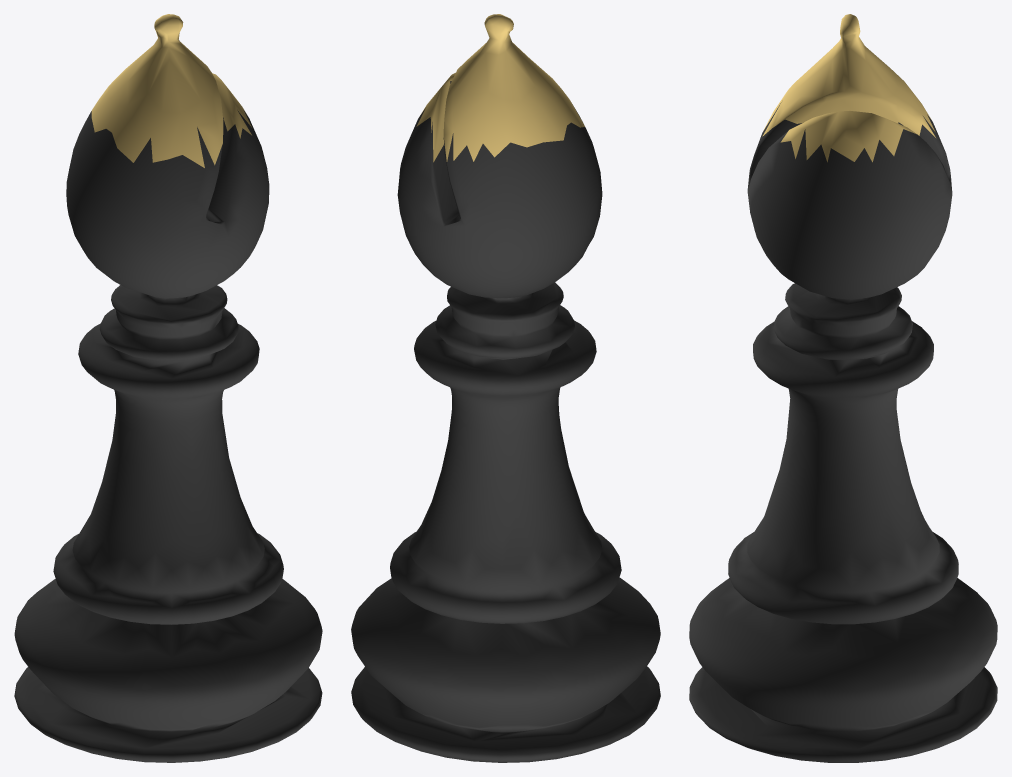
The model's file is gercek7_b_b.glb.
The picture shows the model from 3 angles, left to right: view 1: azimuth 30°, elevation 25°; view 2: azimuth 150°, elevation 25°; view 3: azimuth 270°, elevation 25°; orthographic projection.
Parts seen in each view (by area): view 1: b_b; view 2: b_b; view 3: b_b.
Part boxes in pixels (x1,y1,x2,y2): b_b: (14,14,322,762); b_b: (351,14,660,762); b_b: (689,14,997,762).
Size of the model in its own units: 0.3622 by 0.8988 by 0.3618.
